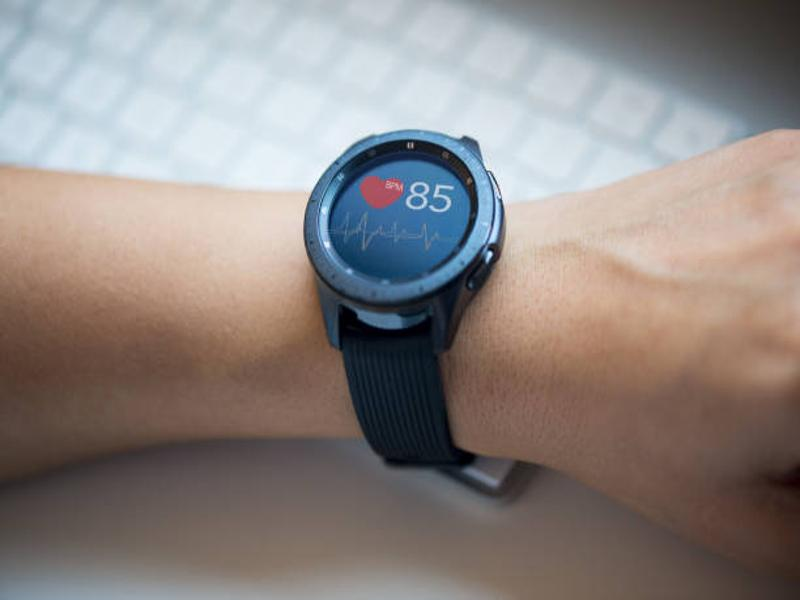watch: (303, 129, 499, 474)
